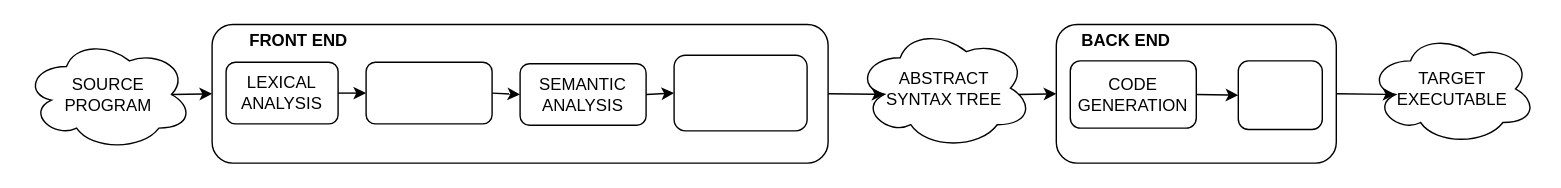
Image size: 1561x188. Some labels were removed from this diagram. Here are the shapes that lost their labels. From the top down, the centre of each, then its label:
point (428, 92): SYNTAX ANALYSIS
point (740, 92): INTERMEDIATE CODE GENERATION
point (1279, 94): LINKING
